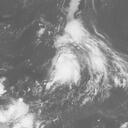cyclone: (41, 28, 110, 93)
